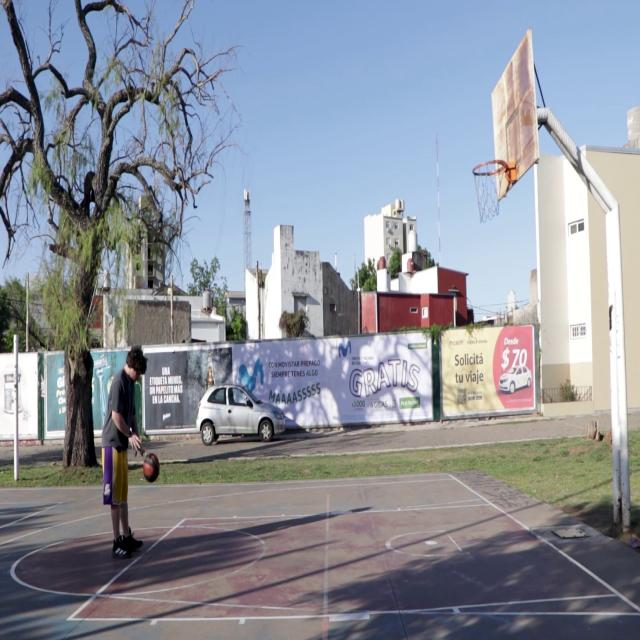ball: (143, 452, 160, 483)
